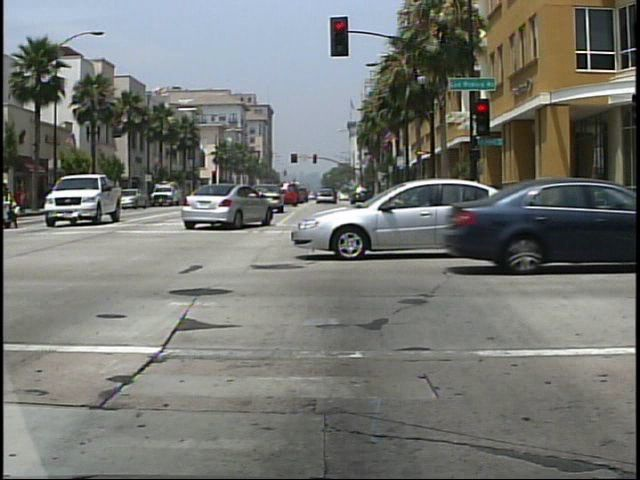person: (2, 178, 26, 232)
